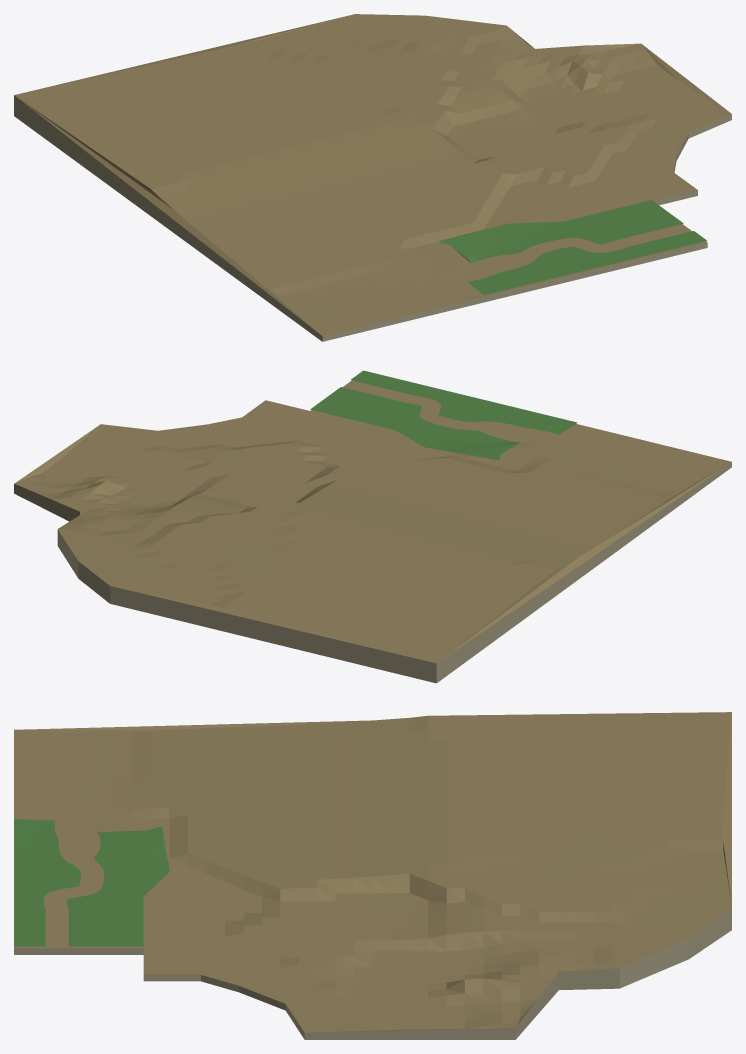
Rendered from coast_and_terrain.glb.
3 views of the same model, one above another, from view 1: azimuth 30°, elevation 25°; view 2: azimuth 150°, elevation 25°; view 3: azimuth 270°, elevation 25° (orthographic). The views are drawn at different scales.
Visible parts, largest first — view 1: TownLand, GardenGrass, CoastalCliffs; view 2: TownLand, CoastalCliffs, GardenGrass; view 3: TownLand, GardenGrass, CoastalCliffs.
Boxes of the visible parts, x1,y1,x2,y2 form: TownLand: (14, 14, 731, 335); GardenGrass: (439, 200, 706, 295); CoastalCliffs: (14, 95, 731, 341); TownLand: (14, 380, 731, 663); CoastalCliffs: (14, 462, 731, 683); GardenGrass: (310, 370, 577, 460); TownLand: (14, 712, 731, 1032); GardenGrass: (14, 819, 169, 946); CoastalCliffs: (14, 908, 731, 1039).
Size of what is drawn, in the model's own units: 311 by 11.65 by 311.
